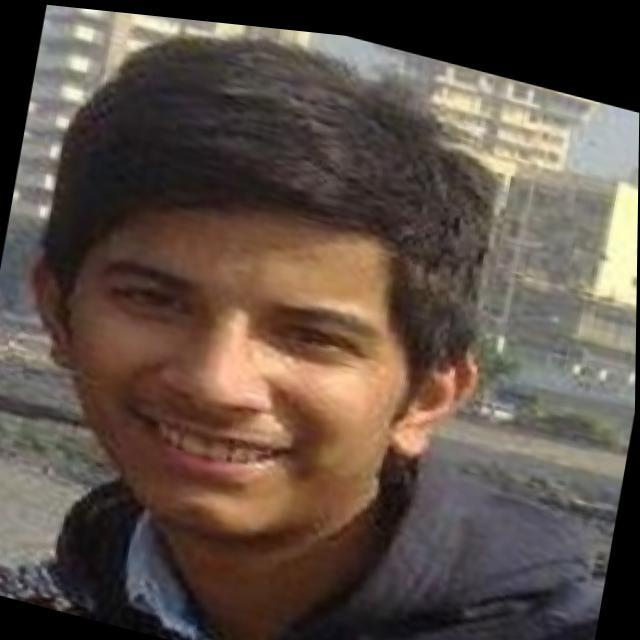Nonhelmet: (26, 32, 490, 549)
